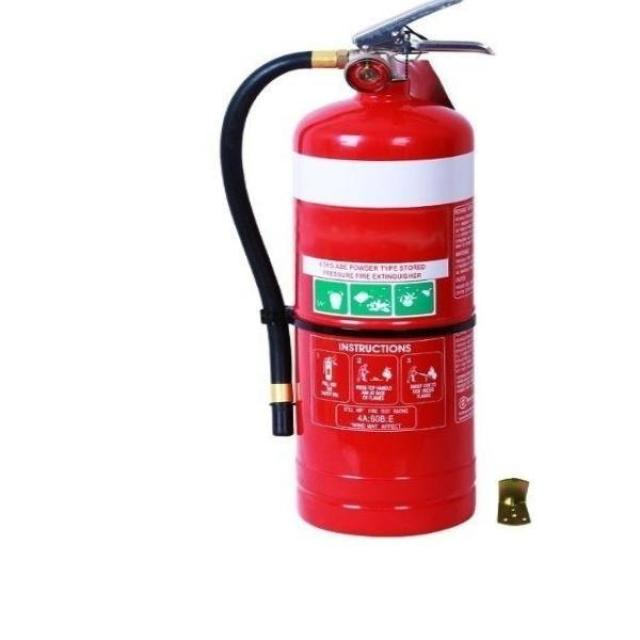fire_extinguisher: (205, 0, 499, 544)
